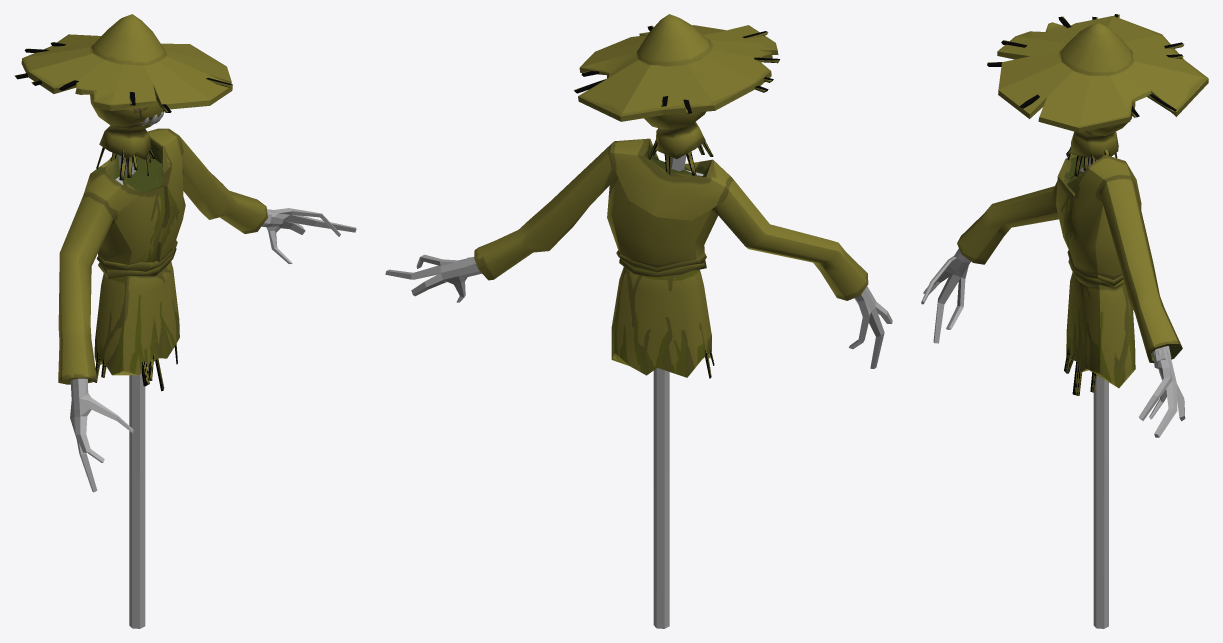
File: scarecrow_jumping.fbx
3 renders of one model, left to right at view 1: azimuth 30°, elevation 25°; view 2: azimuth 150°, elevation 25°; view 3: azimuth 270°, elevation 25°, orthographic. The views are drawn at different scales.
Visible parts, largest first — view 1: pCube112, pCylinder22, pCylinder20, pSphere8, pCube114, pCube115; view 2: pCube112, pCylinder22, pCylinder20, pSphere8, pCube115, pCube114; view 3: pCube112, pCylinder22, pCylinder20, pCube114, pCube115, pSphere8.
Boxes of the visible parts, bbox=[...] form: pCube112: bbox=[58, 128, 267, 384]; pCylinder22: bbox=[21, 14, 232, 110]; pCylinder20: bbox=[118, 155, 145, 628]; pSphere8: bbox=[90, 94, 163, 159]; pCube114: bbox=[70, 378, 133, 492]; pCube115: bbox=[263, 208, 356, 263]; pCube112: bbox=[474, 138, 868, 377]; pCylinder22: bbox=[578, 14, 778, 121]; pCylinder20: bbox=[653, 154, 686, 628]; pSphere8: bbox=[644, 111, 705, 158]; pCube115: bbox=[385, 254, 481, 302]; pCube114: bbox=[849, 286, 892, 368]; pCube112: bbox=[957, 154, 1182, 388]; pCylinder22: bbox=[997, 16, 1208, 132]; pCylinder20: bbox=[1088, 157, 1108, 628]; pCube114: bbox=[921, 248, 970, 343]; pCube115: bbox=[1139, 347, 1185, 437]; pSphere8: bbox=[1070, 102, 1135, 159].
Bounding box in the file's own units: 7.35 × 11.03 × 4.79.
Materials: 5 (3 with a texture image).
